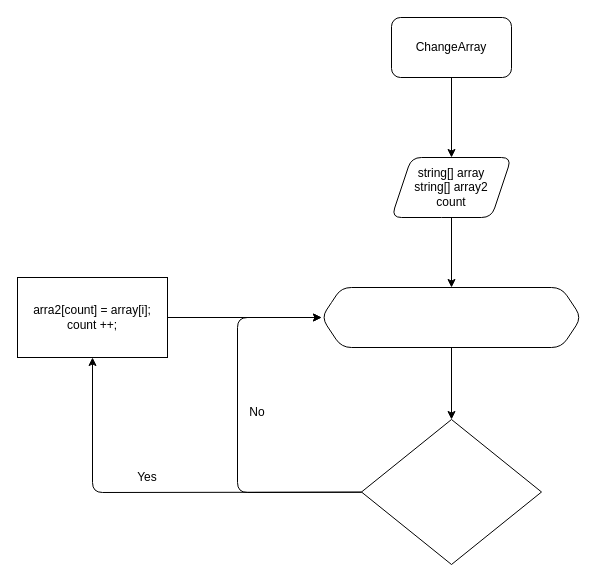
This 599x582 diagram has some shape labels left out. The shapes that lost their labels are listed below. From the top down, each one's box as (x1, y1, x2, y2) in pixels, then its label:
(320, 286, 582, 348): for(int i = 0; i <array.GetLength(0); i++)
(360, 418, 542, 564): if(array[i].Lenght <= 3)
